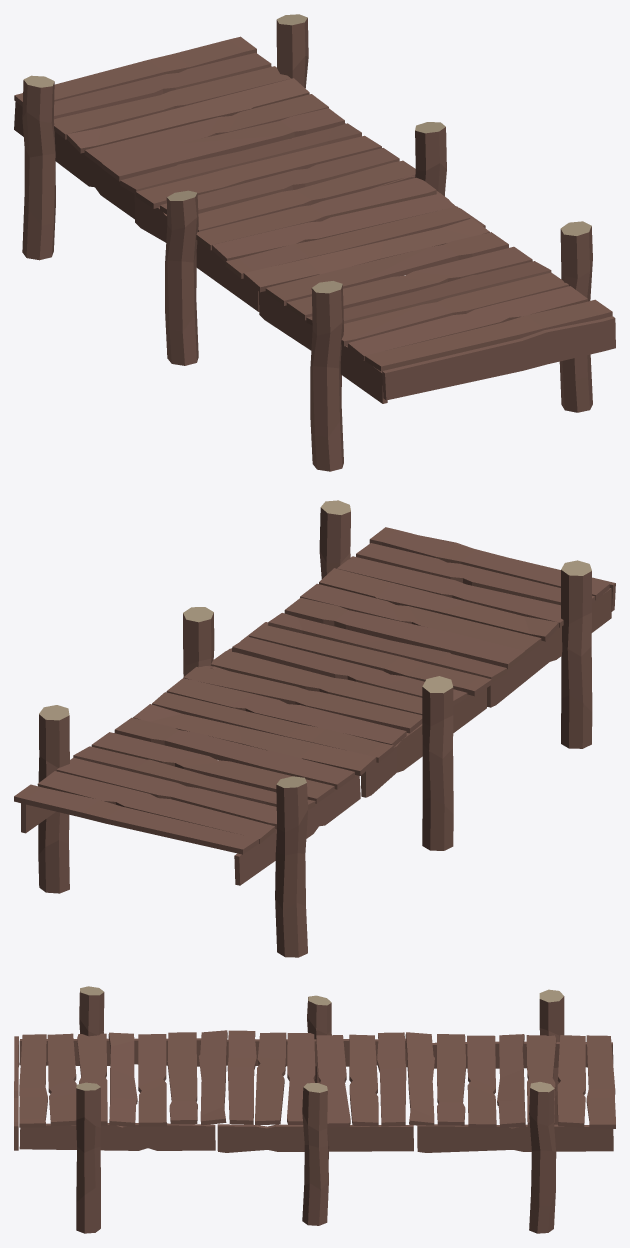
The model's file is Dock_Long_NoRope.glb.
3 views of the same model, one above another, from view 1: azimuth 30°, elevation 25°; view 2: azimuth 150°, elevation 25°; view 3: azimuth 270°, elevation 25° (orthographic). The views are drawn at different scales.
Parts seen in each view (by area): view 1: Dock_Long_NoRope; view 2: Dock_Long_NoRope; view 3: Dock_Long_NoRope.
Part boxes in pixels (x1=…): Dock_Long_NoRope: x1=14, y1=14, x2=615, y2=471; Dock_Long_NoRope: x1=14, y1=500, x2=615, y2=957; Dock_Long_NoRope: x1=14, y1=986, x2=615, y2=1233.
Size of the model in its own units: 9.21 by 5.66 by 21.69.
